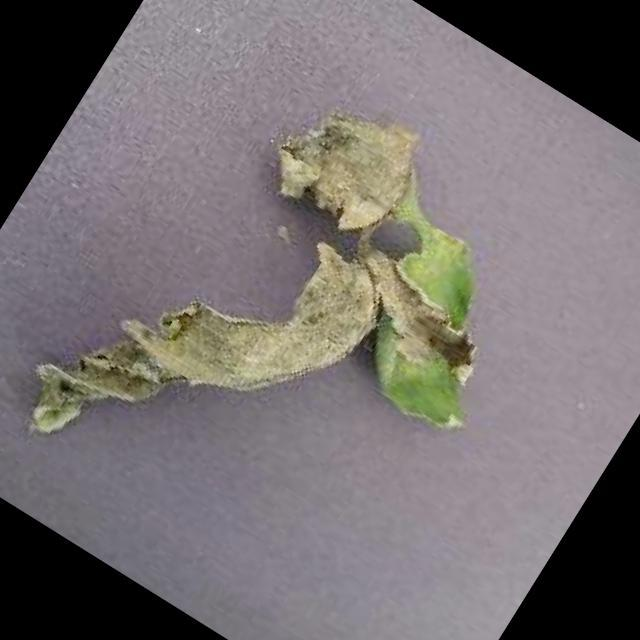Tomato late blight leaf: (5, 27, 578, 618)
